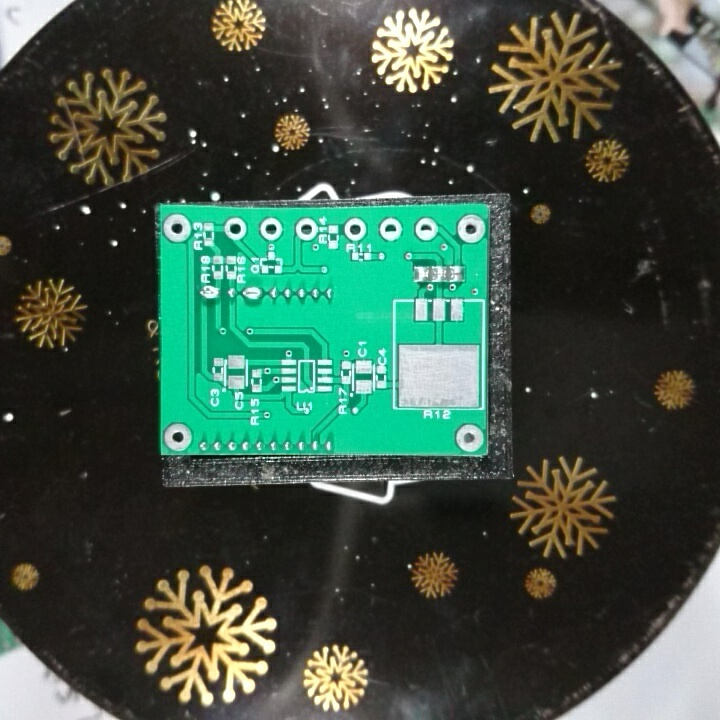F: (162, 212, 191, 246), (162, 423, 196, 452), (454, 213, 486, 243), (455, 423, 486, 452), (377, 216, 405, 244), (411, 215, 439, 242), (258, 216, 285, 244), (342, 215, 368, 244), (222, 214, 248, 242), (293, 215, 317, 241)
P: (240, 283, 265, 302), (199, 283, 220, 302)
